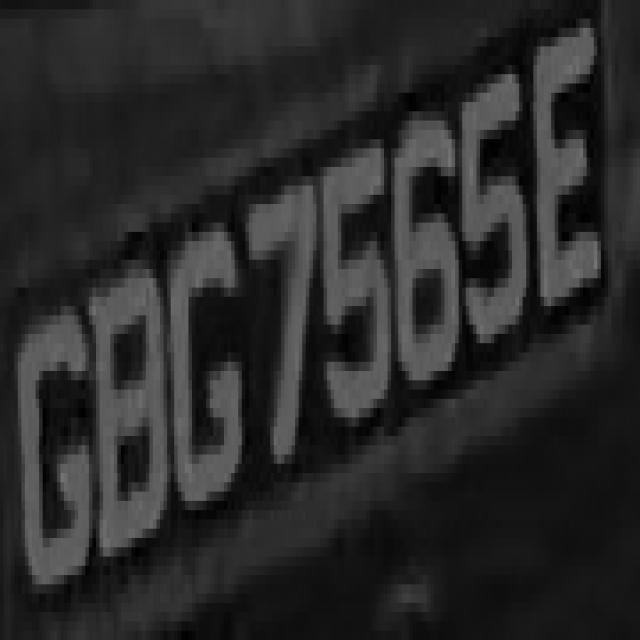5: (310, 111, 398, 464), (459, 83, 533, 390)
6: (380, 92, 466, 426)
7: (242, 148, 324, 501)
B: (82, 241, 167, 575)
E: (522, 37, 604, 334)
G: (164, 185, 252, 538), (14, 269, 96, 621)
